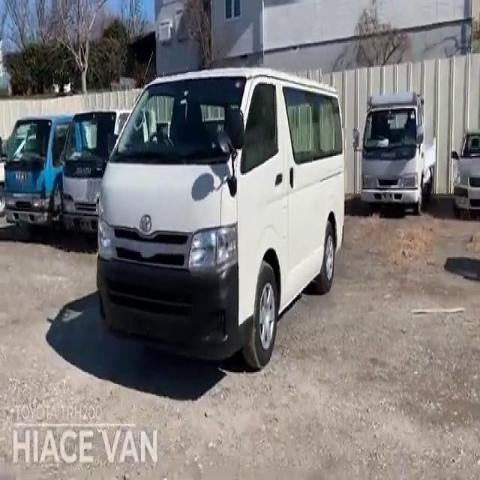van: (98, 68, 346, 375)
